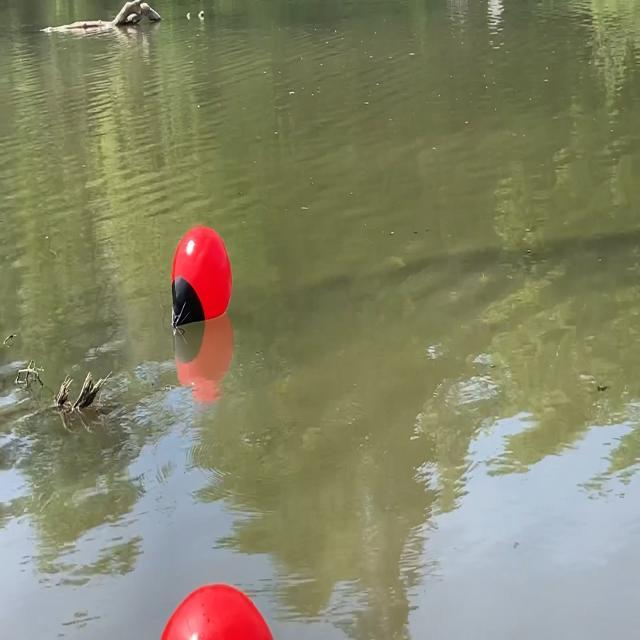buoy: (137, 582, 285, 640), (169, 224, 233, 332)
